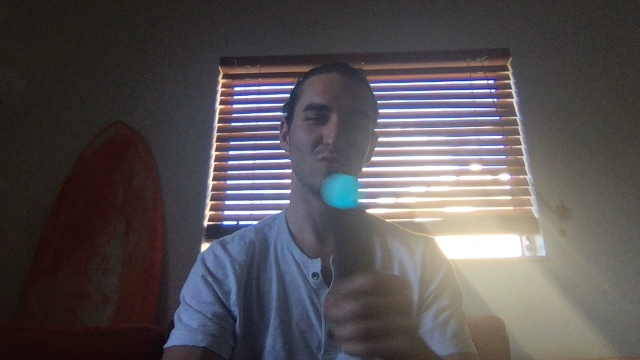wand: (324, 175, 362, 207)
